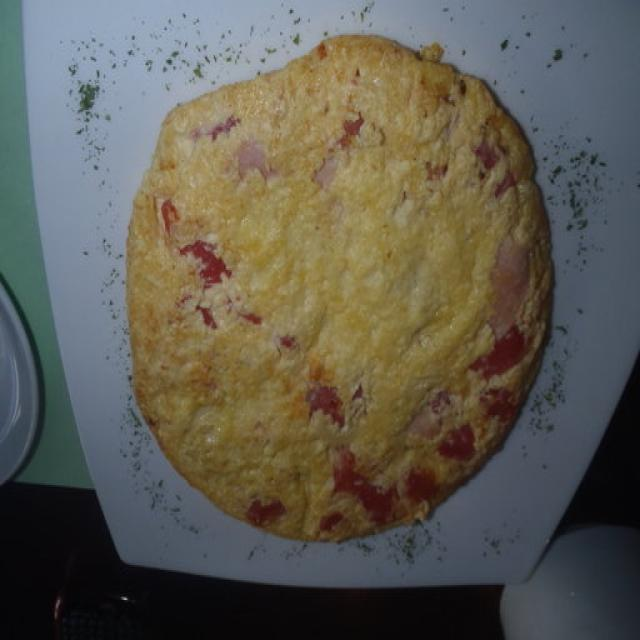telur_ayam_dadar: (125, 35, 556, 547)
